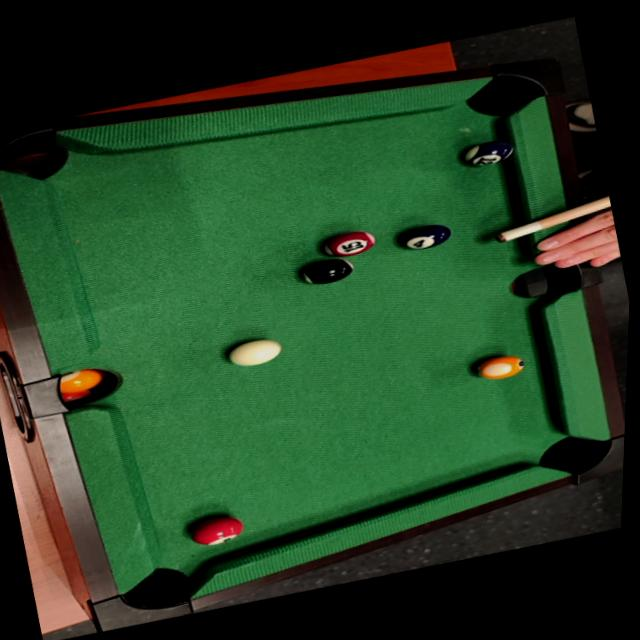cue ball: (219, 332, 288, 375)
other: (450, 130, 525, 177), (179, 509, 249, 552), (291, 249, 356, 294), (318, 222, 382, 263), (394, 217, 457, 258), (470, 349, 527, 387)
